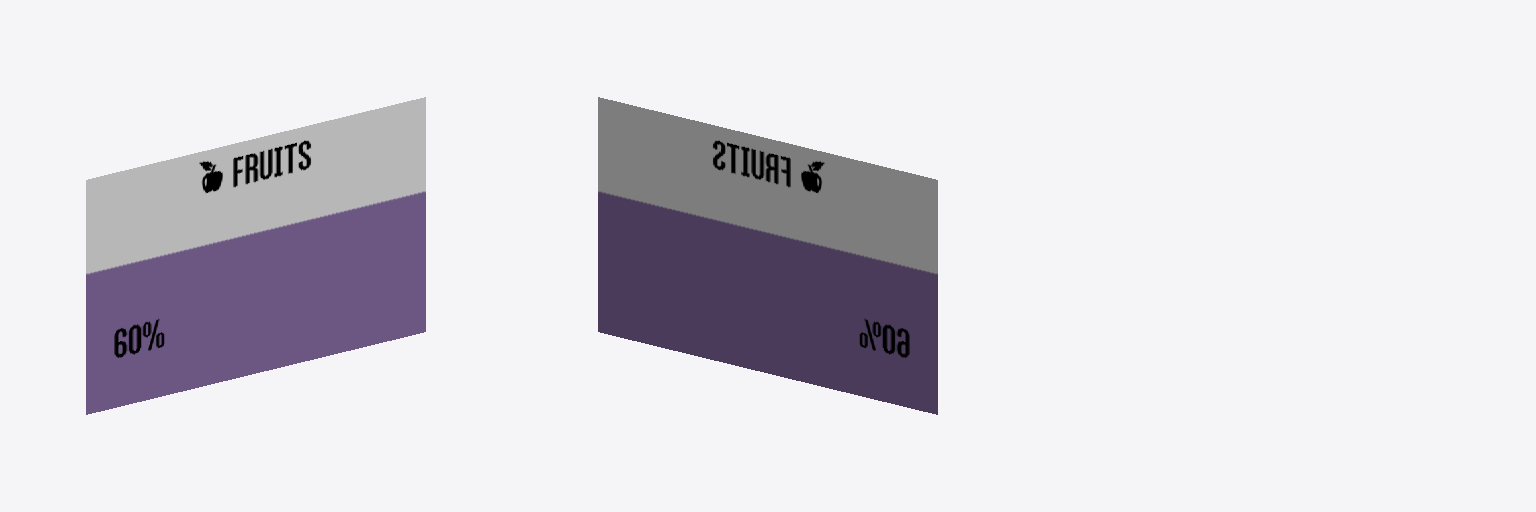
3 views of the same model, side by side, from view 1: azimuth 30°, elevation 25°; view 2: azimuth 150°, elevation 25°; view 3: azimuth 270°, elevation 25° (orthographic).
Size of the model in its own units: 394 by 260 by 0.005.
Materials: 1 (1 with a texture image).